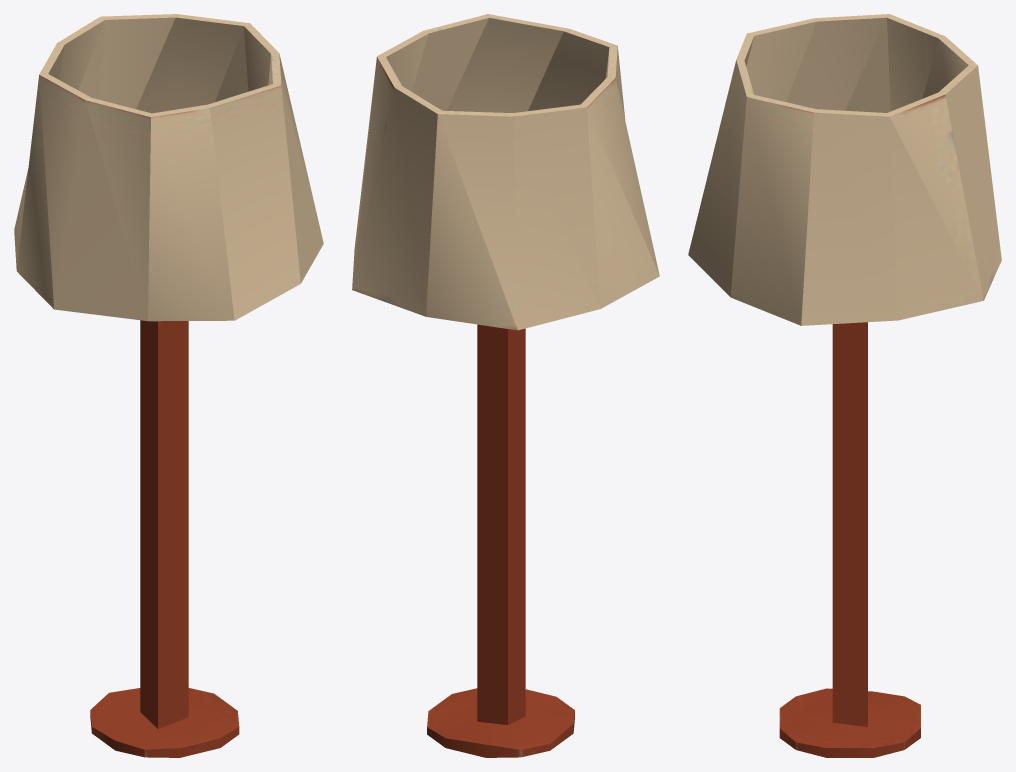
File: lamp_tall.fbx
The picture shows the model from 3 angles, left to right: view 1: azimuth 30°, elevation 25°; view 2: azimuth 150°, elevation 25°; view 3: azimuth 270°, elevation 25°; orthographic projection.
Parts seen in each view (by area): view 1: polySurface1, polySurface7; view 2: polySurface1, polySurface7; view 3: polySurface1, polySurface7.
Part boxes in pixels (x1=…): polySurface1: x1=14, y1=14, x2=323, y2=321; polySurface7: x1=90, y1=320, x2=239, y2=757; polySurface1: x1=352, y1=14, x2=659, y2=330; polySurface7: x1=427, y1=324, x2=574, y2=757; polySurface1: x1=688, y1=14, x2=1001, y2=325; polySurface7: x1=779, y1=322, x2=920, y2=757.
Size of the model in its own units: 11 by 25.87 by 11.1.
Materials: 2 (2 with a texture image).
